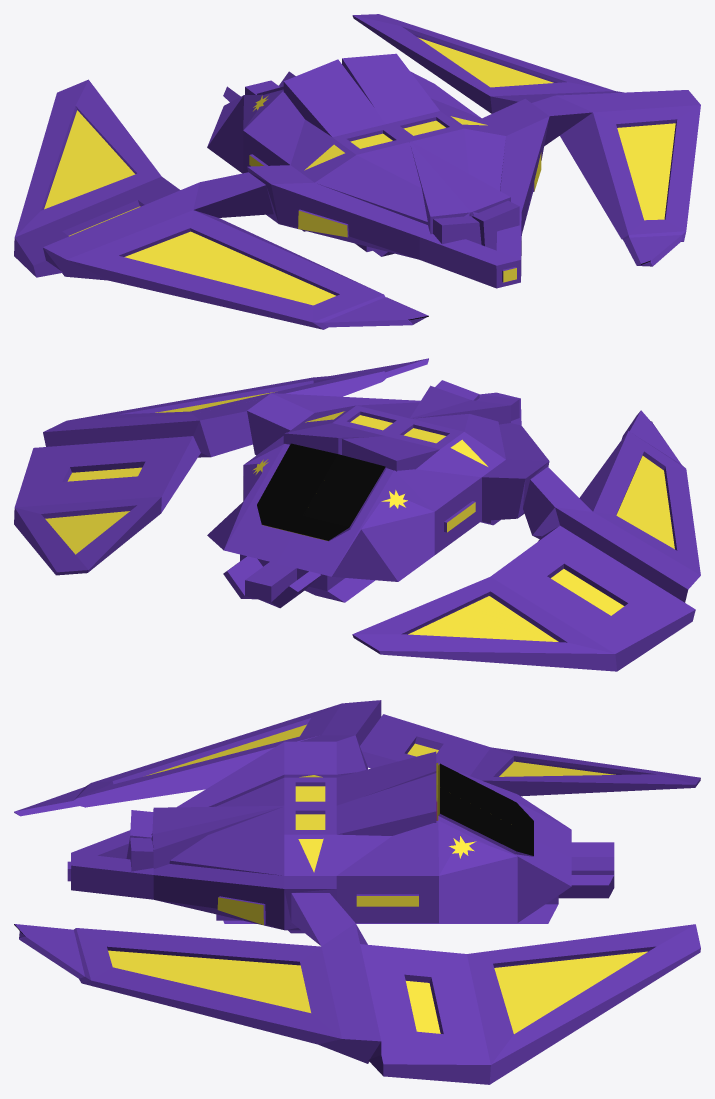
File: statekson1fbx 1.fbx
The picture shows the model from 3 angles, top to bottom: view 1: azimuth 30°, elevation 25°; view 2: azimuth 150°, elevation 25°; view 3: azimuth 270°, elevation 25°; orthographic projection. The views are drawn at different scales.
Visible parts, largest first — view 1: Cube; view 2: Cube; view 3: Cube.
Part boxes in pixels (<box>): Cube: <box>14,14,700,329</box>; Cube: <box>14,358,700,671</box>; Cube: <box>14,700,700,1084</box>.
Size of the model in its own units: 3175 by 649 by 2632.
